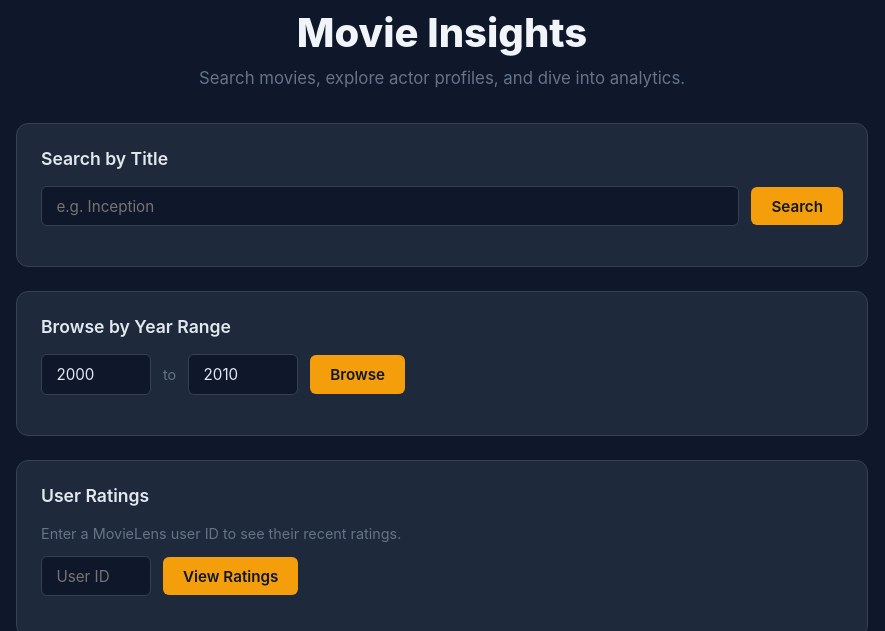
Scenario: pages › shows HomePage API errors
Type "Bad" into the field with placeholder "e.g. Inception" at (390,206), box [41,186,739,226]
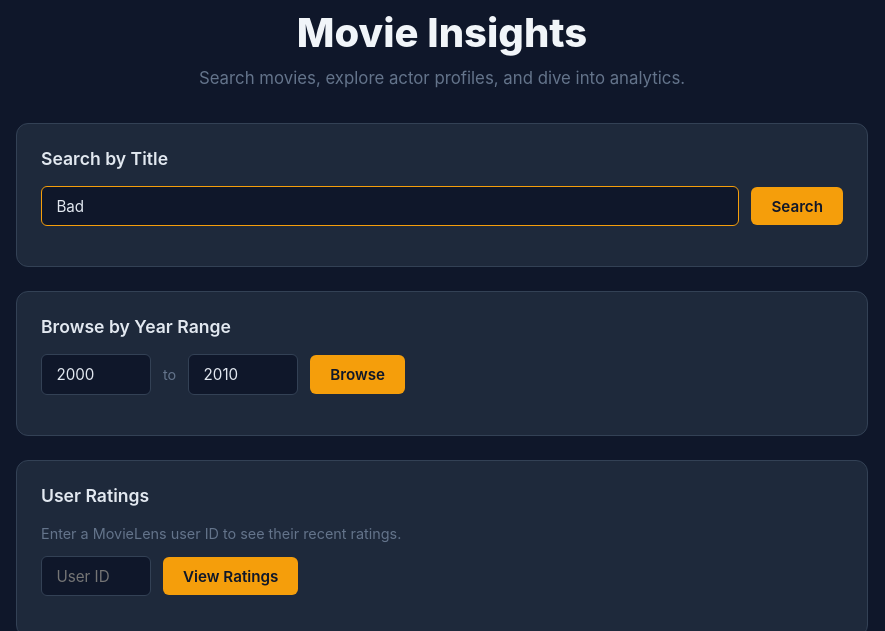
Click the button "Search" at (797,206), box [751,187,843,225]
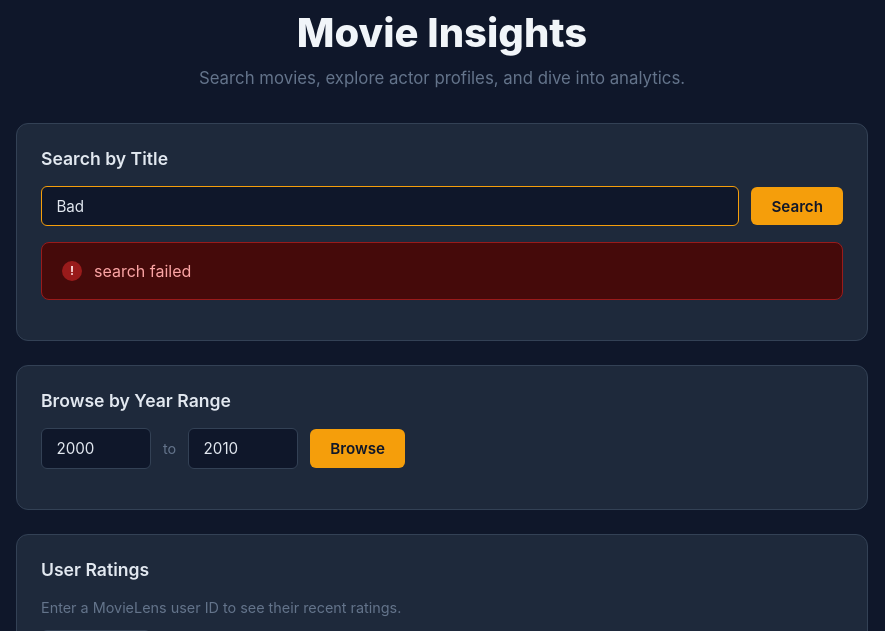
Result: the text "search failed" is shown at [94,259,191,283]
Click the button "Browse" at (358,448), box [310,429,405,468]
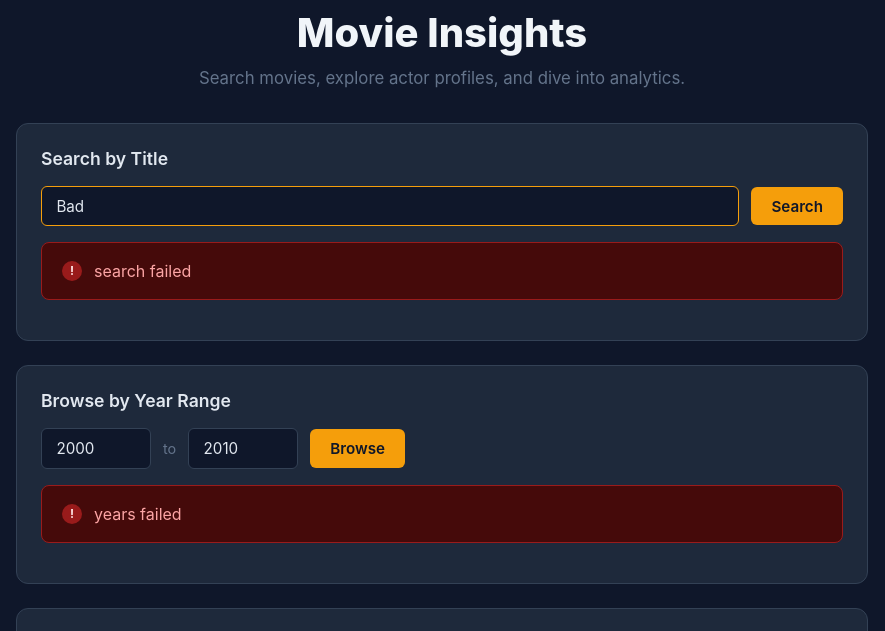
Result: the text "years failed" is shown at [94,502,182,526]
